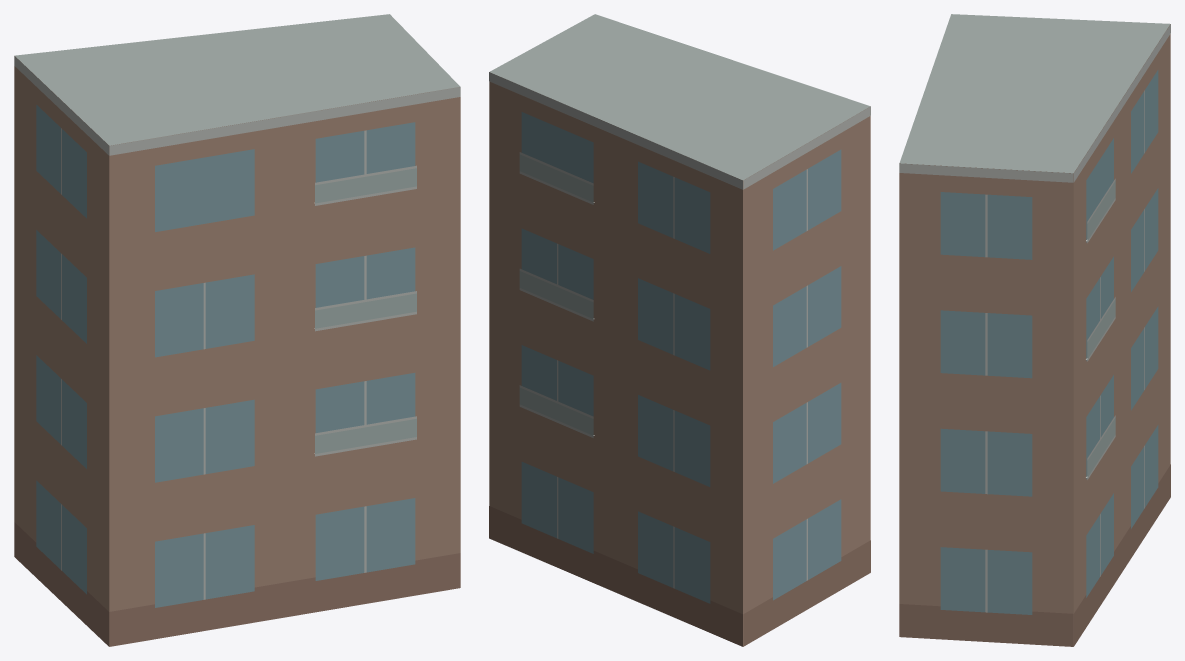
The model's file is survey-upis-32914383.glb.
The picture shows the model from 3 angles, left to right: view 1: azimuth 30°, elevation 25°; view 2: azimuth 150°, elevation 25°; view 3: azimuth 270°, elevation 25°; orthographic projection. The views are drawn at different scales.
Visible parts, largest first — view 1: survey-upis-32914383.tmp; view 2: survey-upis-32914383.tmp; view 3: survey-upis-32914383.tmp.
Part boxes in pixels (<box>): survey-upis-32914383.tmp: <box>14,14,460,646</box>; survey-upis-32914383.tmp: <box>489,14,870,646</box>; survey-upis-32914383.tmp: <box>899,14,1170,646</box>.
Bounding box in the file's own units: 8.74 × 12.1 × 6.29.
